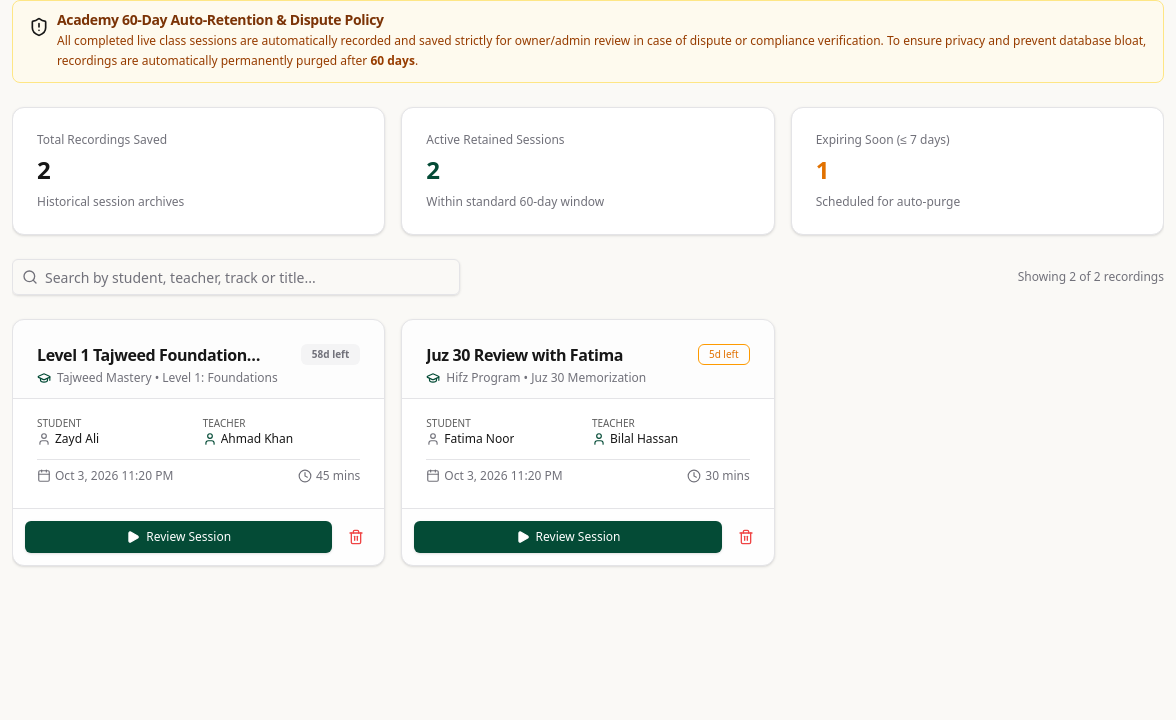
Session Recordings & 60-Day Retention View › filters recordings by search term (student, teacher, title, track)
The image size is (1176, 720).
expect the text "Level 1 Tajweed Foundation Session" is shown: met, box 37,344 -> 247,388
Type "Fatima" into the field with placeholder "Search by student, teacher, track or title..." at (236, 277), box 12,259 -> 460,295
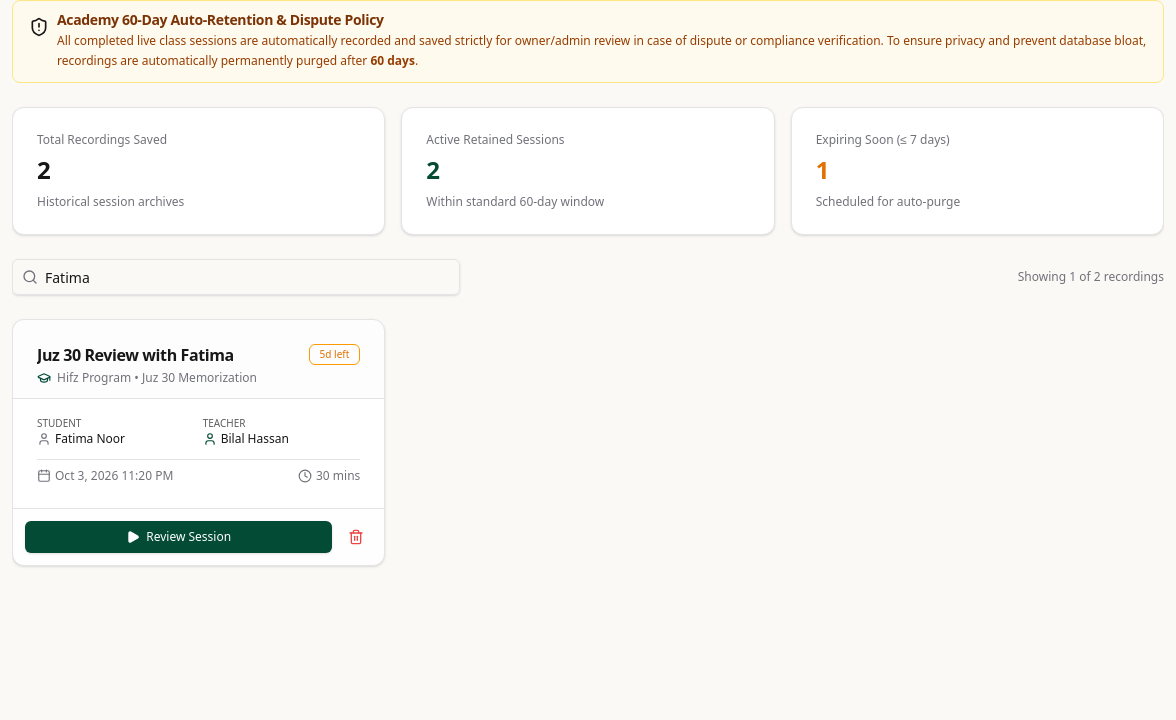
expect the text "Juz 30 Review with Fatima" is shown: met, box 37,344 -> 257,366
expect the text "Level 1 Tajweed Foundation Session" is gone: met
